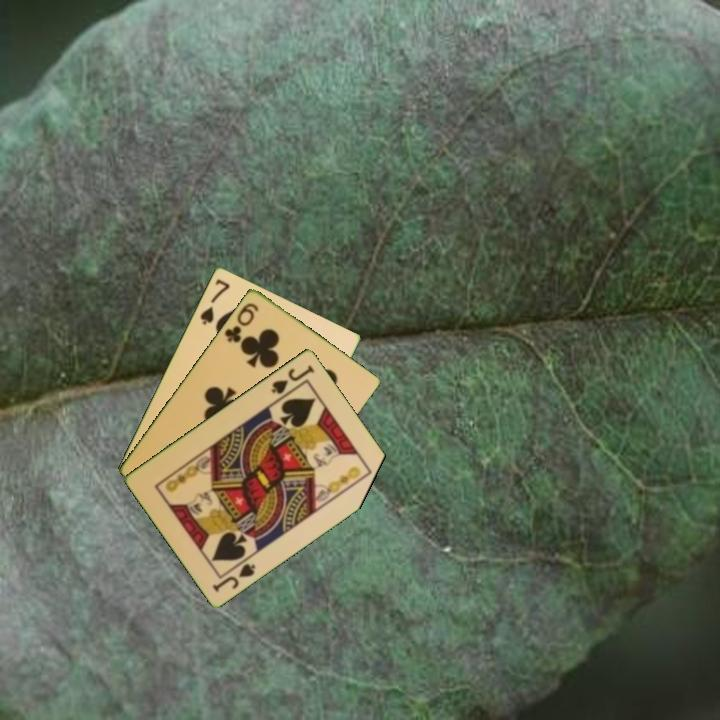6c: (221, 299, 261, 346)
7s: (196, 275, 232, 327)
Js: (267, 361, 317, 397), (209, 560, 259, 595)
